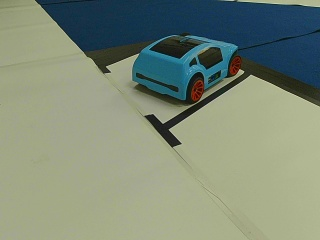car: (132, 33, 244, 103)
